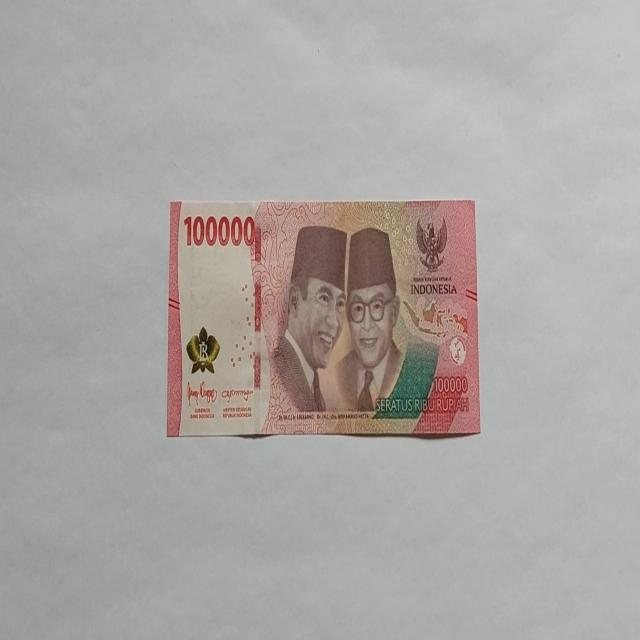seratus ribu rupiah: (165, 197, 480, 439)
